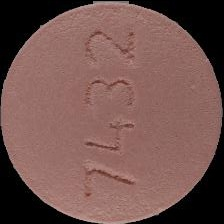69189-7432: (0, 0, 224, 224)
